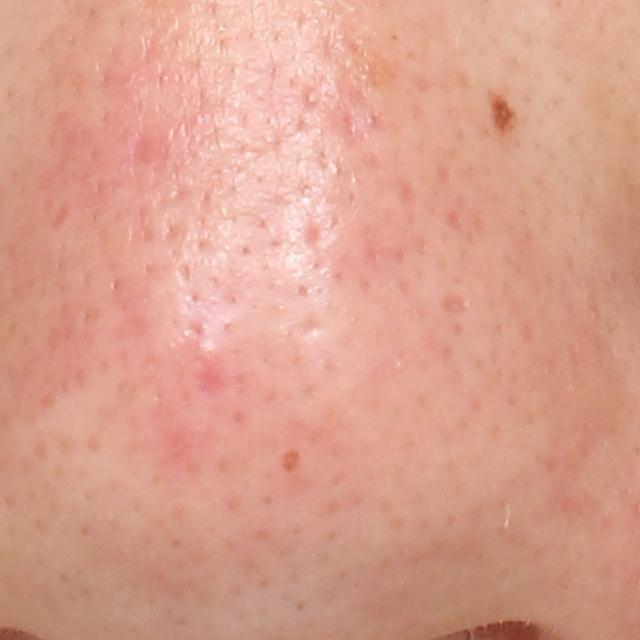atrophic_scar: (434, 291, 470, 315)
nevus: (489, 87, 520, 142)
